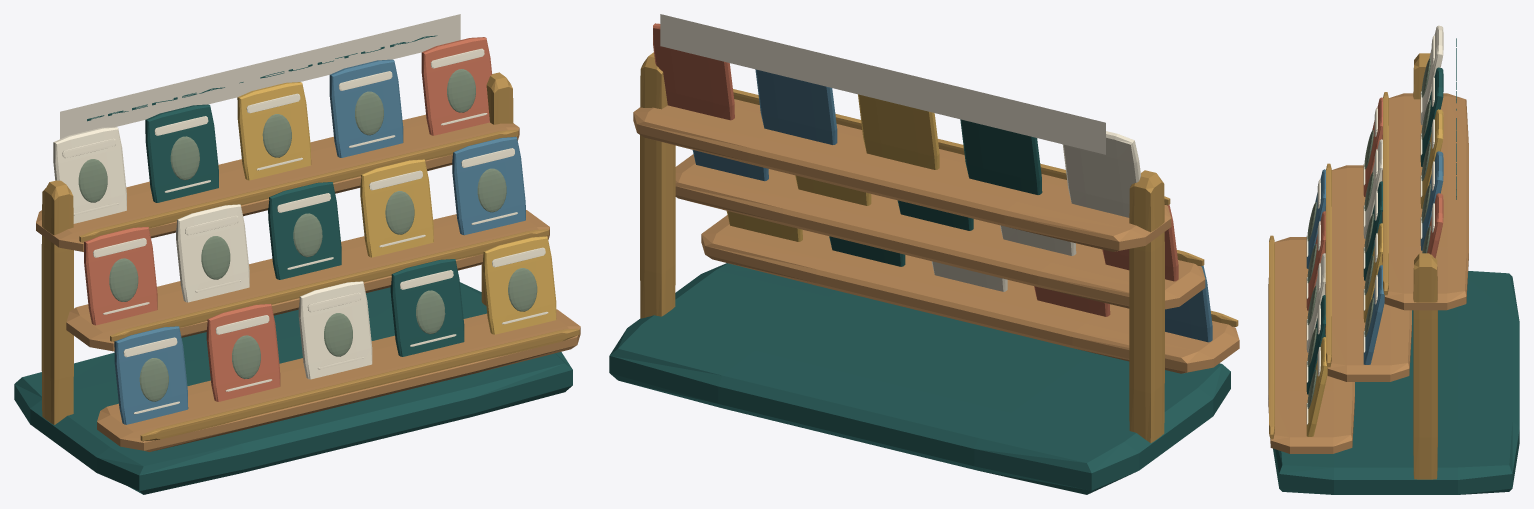
The model's file is best.glb.
3 views of the same model, side by side, from view 1: azimuth 30°, elevation 25°; view 2: azimuth 150°, elevation 25°; view 3: azimuth 270°, elevation 25° (orthographic). The views are drawn at different scales.
Parts seen in each view (by area): view 1: Native component 1, Native component 10, Native component 16, Native component 5, Native component 49, Native component 13, Native component 67, Native component 64, Native component 0; view 2: Native component 1, Native component 10, Native component 5, Native component 0, Native component 13, Native component 16, Native component 64, Native component 67; view 3: Native component 10, Native component 1, Native component 5, Native component 16, Native component 49, Native component 67, Native component 13, Native component 64.
Part boxes in pixels (bbox=[...]): Native component 1: bbox=[14, 104, 572, 494]; Native component 10: bbox=[36, 114, 580, 451]; Native component 16: bbox=[53, 48, 548, 414]; Native component 5: bbox=[41, 72, 579, 441]; Native component 49: bbox=[78, 69, 537, 401]; Native component 13: bbox=[114, 59, 525, 424]; Native component 67: bbox=[237, 82, 556, 334]; Native component 64: bbox=[84, 37, 492, 401]; Native component 0: bbox=[60, 14, 460, 138]; Native component 1: bbox=[609, 119, 1230, 494]; Native component 10: bbox=[633, 99, 1239, 373]; Native component 5: bbox=[640, 52, 1238, 442]; Native component 0: bbox=[660, 14, 1105, 154]; Native component 13: bbox=[692, 69, 1212, 342]; Native component 16: bbox=[931, 131, 1140, 291]; Native component 64: bbox=[653, 23, 1178, 316]; Native component 67: bbox=[726, 94, 939, 241]; Native component 10: bbox=[1268, 93, 1468, 453]; Native component 1: bbox=[1273, 67, 1519, 494]; Native component 5: bbox=[1268, 53, 1437, 479]; Native component 16: bbox=[1306, 25, 1443, 424]; Native component 49: bbox=[1307, 58, 1430, 408]; Native component 67: bbox=[1306, 109, 1443, 436]; Native component 13: bbox=[1306, 151, 1443, 364]; Native component 64: bbox=[1306, 97, 1443, 310].
Size of the model in its own units: 2 by 1.3 by 1.01.
